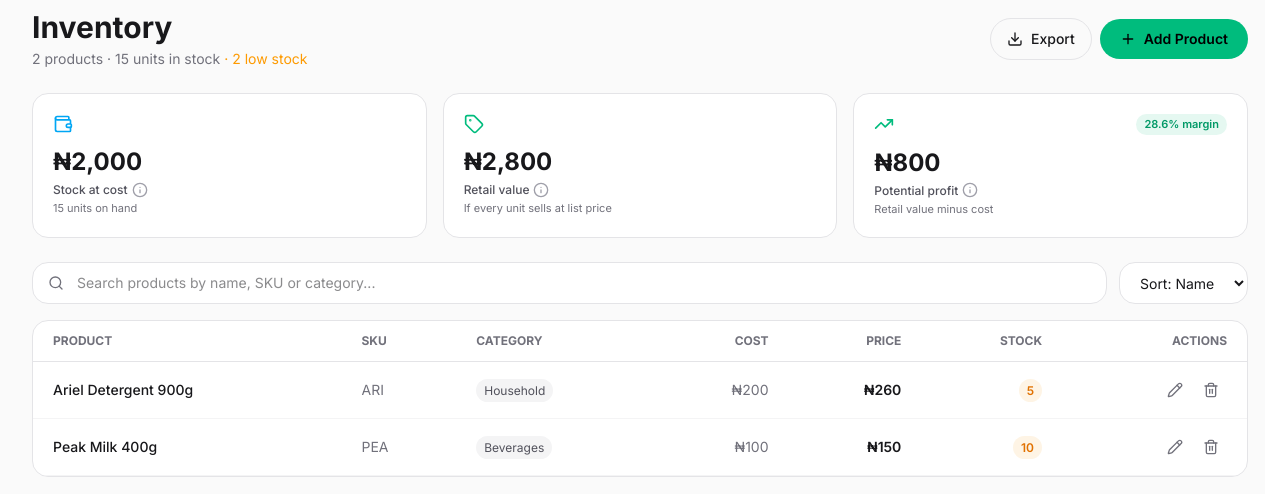
Test: Inventory: worth summary › offers help on each worth card
The width and height of the screenshot is (1265, 494).
Expected: the element named "inventory worth" is shown, [32,93,1248,238]
Focus the button named "Help: Stock at cost" at (140, 190), box [132,182,148,198]
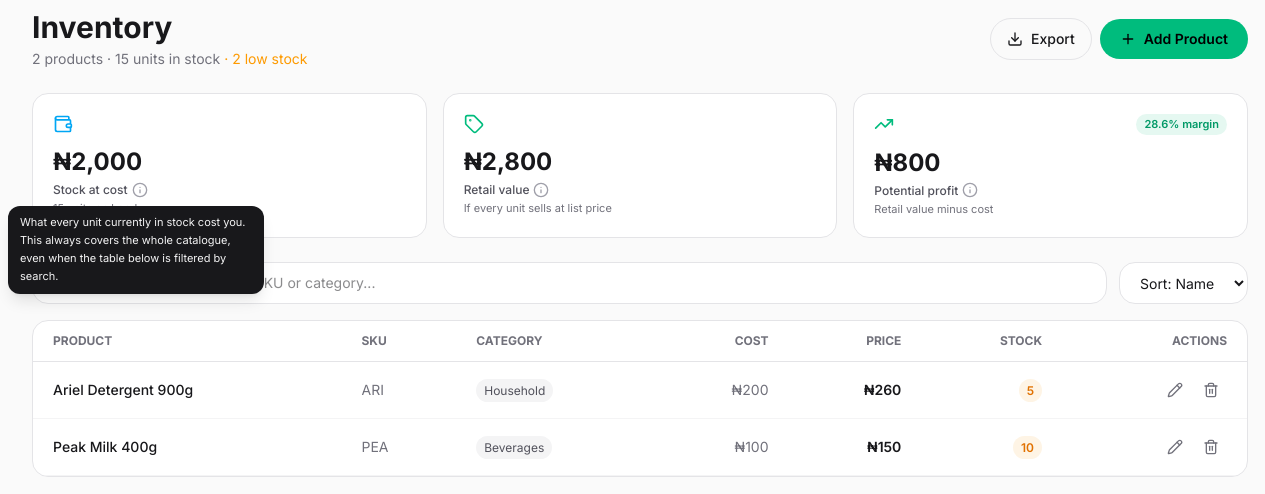
Expected: the tooltip shows "whole catalogue", [20,215,246,283]
Press Escape
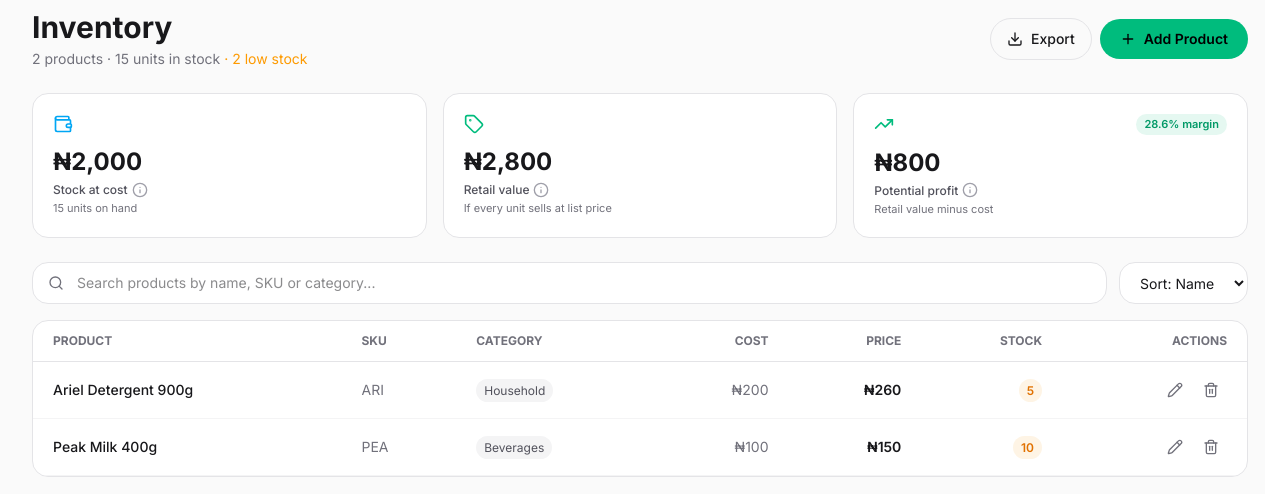
Expected: the tooltip is gone
Focus the button named "Help: Potential profit" at (970, 190), box [962,182,978,198]
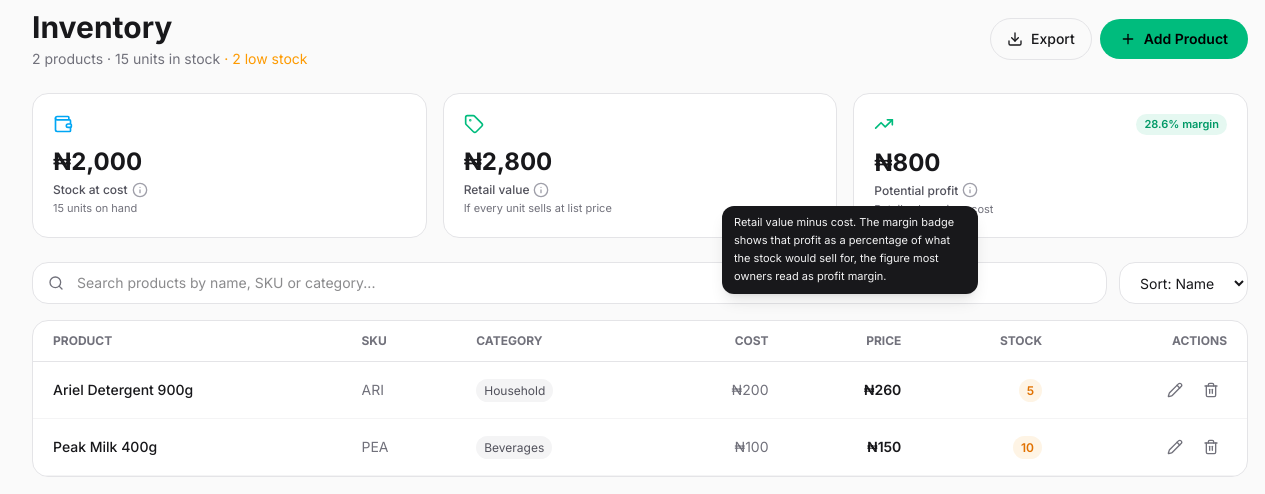
Expected: the tooltip shows "margin", [734,215,954,283]
